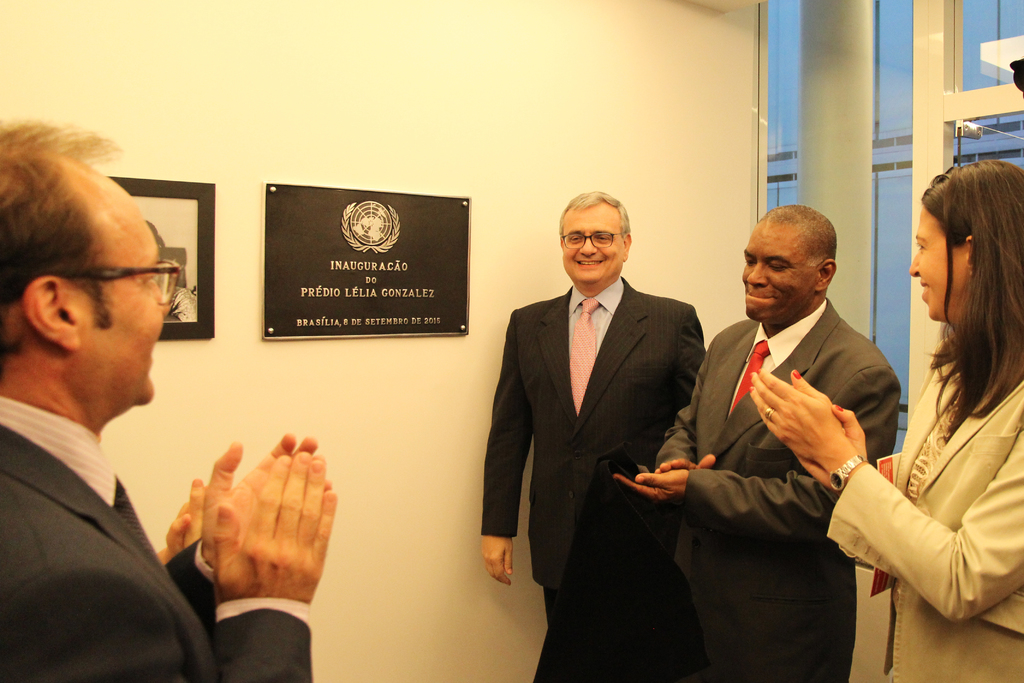Human-face: (84, 180, 171, 399), (740, 217, 811, 324), (907, 206, 967, 327), (561, 201, 623, 285)
